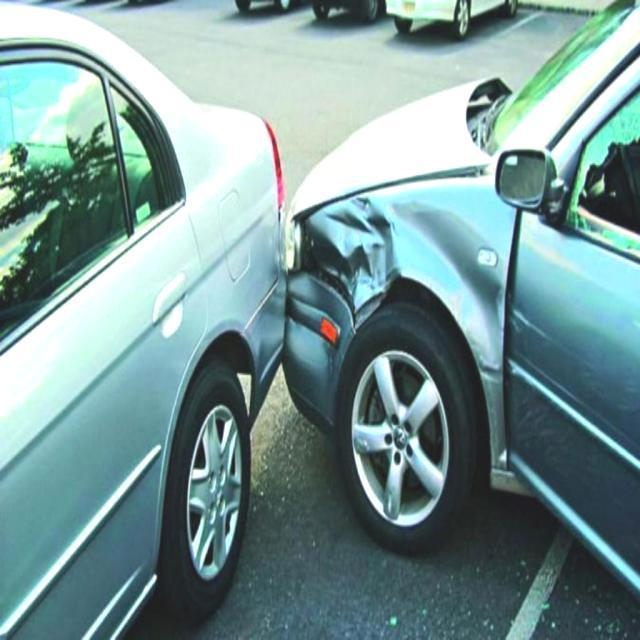minor: (283, 168, 516, 465)
